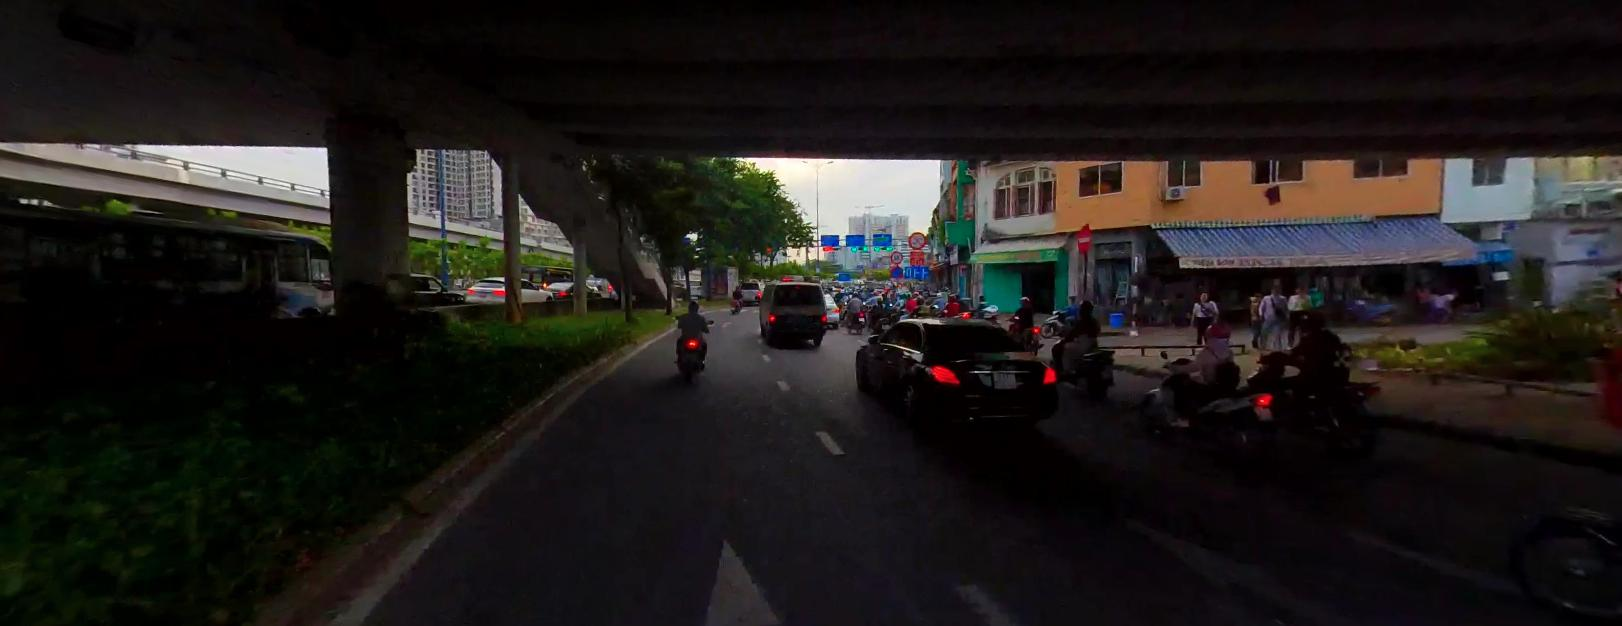Cam con lai: (908, 230, 926, 247)
Cam dung va do: (890, 264, 903, 277)
Cam nguoc chieu: (1076, 220, 1092, 252)
Gioi han toc do: (891, 250, 902, 261)
